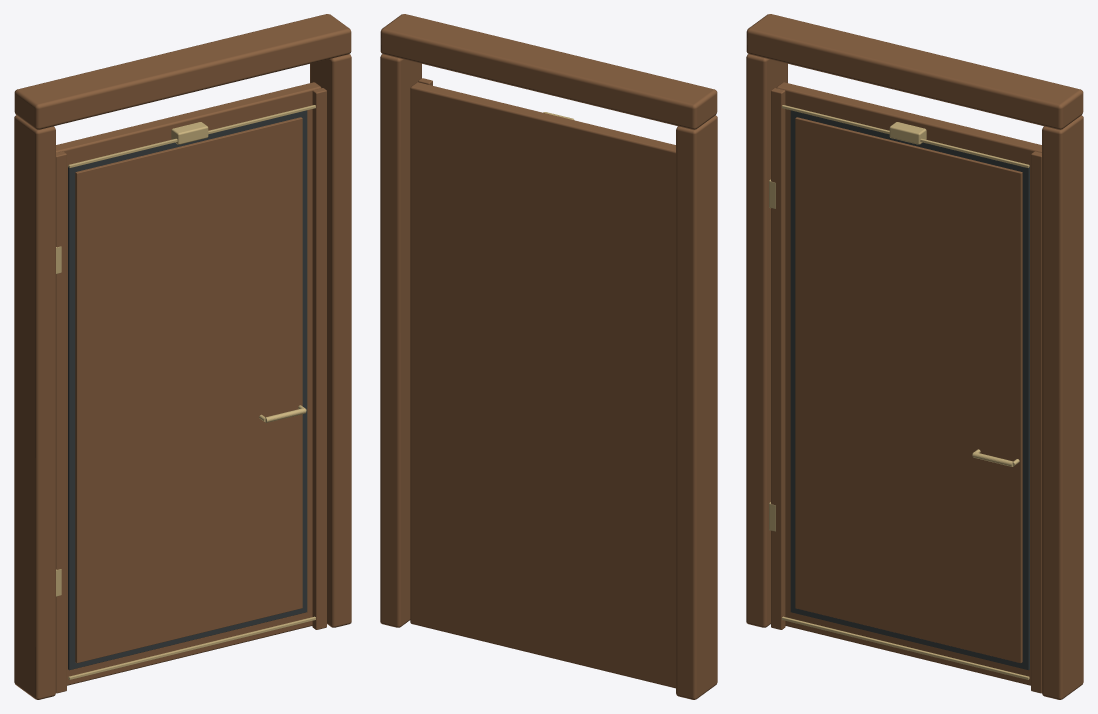
The model's file is city-courthouse-and-records-office-city-courthouse-and-4e3e0339__30954.glb.
3 views of the same model, side by side, from view 1: azimuth 30°, elevation 25°; view 2: azimuth 150°, elevation 25°; view 3: azimuth 330°, elevation 25° (orthographic).
Parts seen in each view (by area): view 1: city-courthouse-and-records-office-courtroom-door; view 2: city-courthouse-and-records-office-courtroom-door; view 3: city-courthouse-and-records-office-courtroom-door.
Part boxes in pixels (bbox=[...]): city-courthouse-and-records-office-courtroom-door: bbox=[14, 14, 351, 699]; city-courthouse-and-records-office-courtroom-door: bbox=[380, 14, 717, 699]; city-courthouse-and-records-office-courtroom-door: bbox=[746, 14, 1083, 699].
Size of the model in its own units: 1.54 by 2.77 by 0.2119.
